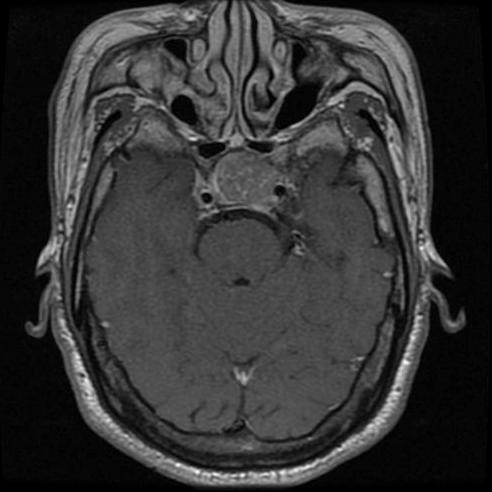Tumour-Pituitary: (197, 150, 287, 221)
